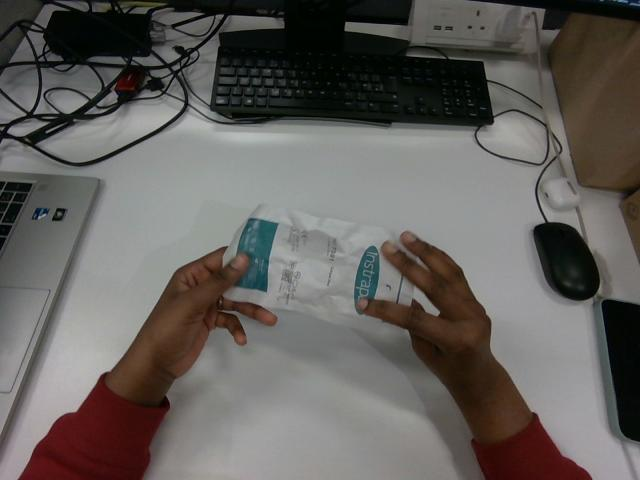gallipot: (223, 205, 413, 327)
